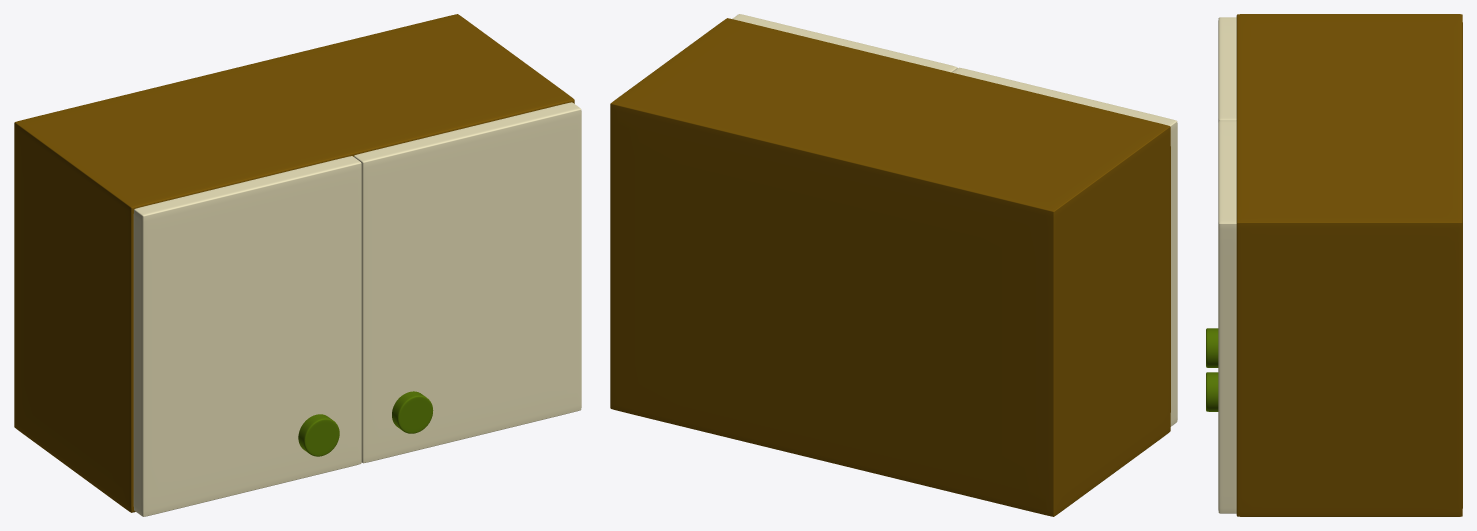
File: kitchen_cabinet.fbx
3 renders of one model, left to right at view 1: azimuth 30°, elevation 25°; view 2: azimuth 150°, elevation 25°; view 3: azimuth 270°, elevation 25°, orthographic. The views are drawn at different scales.
Parts seen in each view (by area): view 1: cabinet_body, cabinet_left_door, cabinet_right_door; view 2: cabinet_body, cabinet_left_door, cabinet_right_door; view 3: cabinet_body, cabinet_right_door, cabinet_left_door.
Part boxes in pixels (box(x1,y1,x2,y2)): cabinet_body: box(14, 14, 574, 512); cabinet_left_door: box(133, 156, 361, 516); cabinet_right_door: box(354, 102, 581, 463); cabinet_body: box(610, 18, 1170, 516); cabinet_left_door: box(952, 67, 1177, 426); cabinet_right_door: box(732, 14, 957, 72); cabinet_body: box(1236, 14, 1462, 516); cabinet_right_door: box(1206, 120, 1236, 513); cabinet_left_door: box(1206, 17, 1236, 367).
Size of the model in its own units: 14.49 by 9.55 by 7.53.
